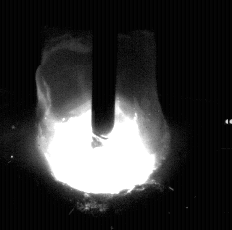arame: (92, 0, 117, 135)
poca: (37, 0, 171, 230)
